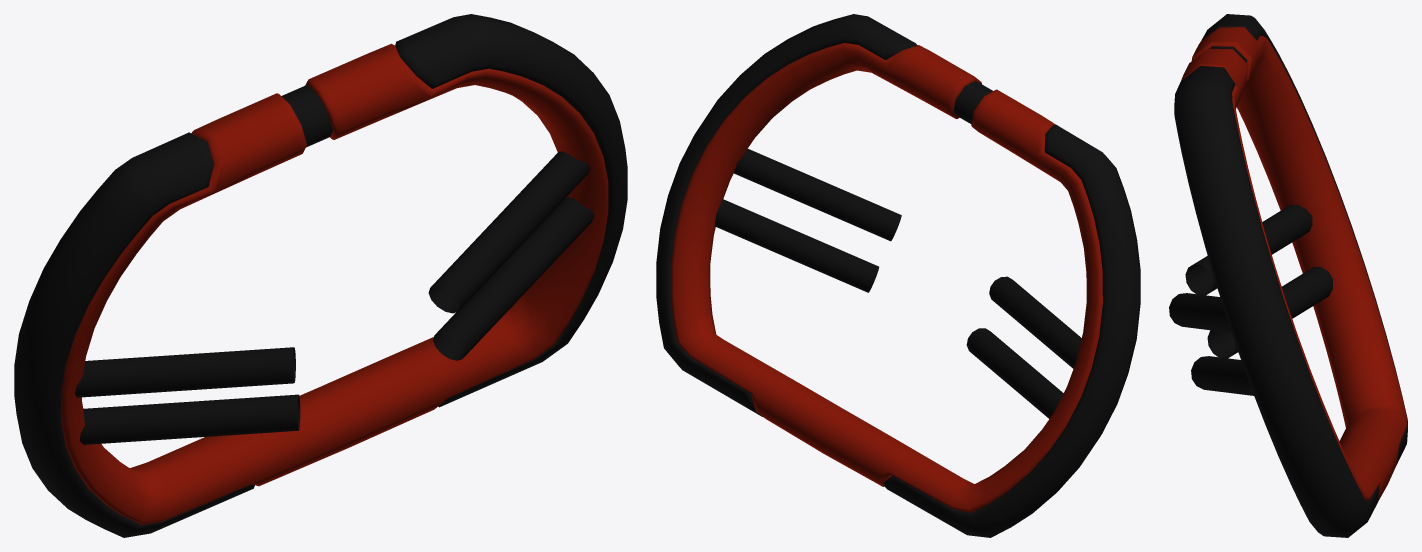
The model's file is Steering.fbx.
3 views of the same model, side by side, from view 1: azimuth 30°, elevation 25°; view 2: azimuth 150°, elevation 25°; view 3: azimuth 270°, elevation 25° (orthographic). The views are drawn at different scales.
Visible parts, largest first — view 1: InteriorSteeringWheel01.001, InteriorSteeringWheel02.001, InteriorSteeringWheel04.001, InteriorSteeringWheel03.001; view 2: InteriorSteeringWheel01.001, InteriorSteeringWheel02.001, InteriorSteeringWheel04.001, InteriorSteeringWheel03.001; view 3: InteriorSteeringWheel02.001, InteriorSteeringWheel01.001, InteriorSteeringWheel04.001.
Boxes of the visible parts, x1,y1,x2,y2 form: InteriorSteeringWheel01.001: (61,43,608,524); InteriorSteeringWheel02.001: (14,14,627,537); InteriorSteeringWheel04.001: (74,151,594,444); InteriorSteeringWheel03.001: (281,84,332,147); InteriorSteeringWheel01.001: (671,43,1102,512); InteriorSteeringWheel02.001: (656,14,1140,537); InteriorSteeringWheel04.001: (714,149,1081,418); InteriorSteeringWheel03.001: (953,80,992,124); InteriorSteeringWheel02.001: (1174,14,1407,537); InteriorSteeringWheel01.001: (1181,27,1407,500); InteriorSteeringWheel04.001: (1169,204,1333,395).
Size of the model in its own units: 34.33 by 28.61 by 12.86.
